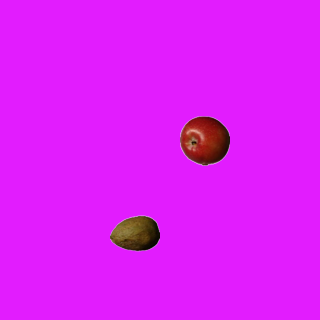Apple Braeburn: (179, 115, 229, 165)
Papaya: (109, 208, 159, 258)
